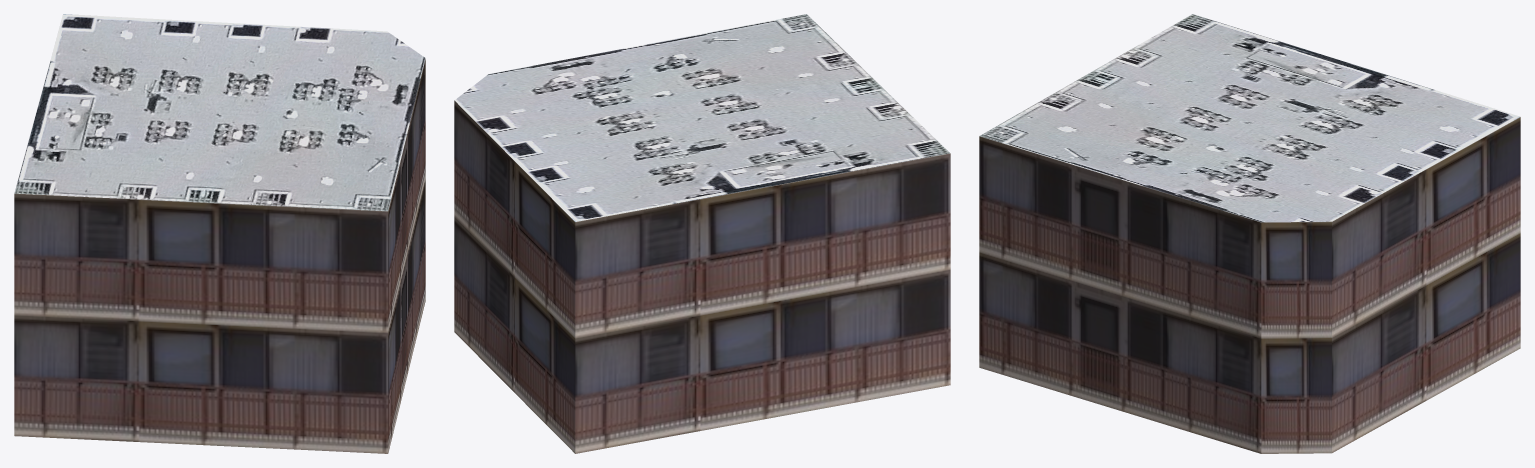
Rendered from ResTex__1373.fbx.
The picture shows the model from 3 angles, left to right: view 1: azimuth 30°, elevation 25°; view 2: azimuth 150°, elevation 25°; view 3: azimuth 270°, elevation 25°; orthographic projection. The views are drawn at different scales.
Visible parts, largest first — view 1: CityEngineMaterial_6_m, CityEngineMaterial_8_m; view 2: CityEngineMaterial_6_m, CityEngineMaterial_8_m; view 3: CityEngineMaterial_6_m, CityEngineMaterial_8_m.
Part boxes in pixels (bbox=[...]): CityEngineMaterial_6_m: bbox=[14, 59, 425, 453]; CityEngineMaterial_8_m: bbox=[14, 14, 425, 211]; CityEngineMaterial_6_m: bbox=[454, 100, 950, 453]; CityEngineMaterial_8_m: bbox=[454, 14, 949, 221]; CityEngineMaterial_6_m: bbox=[979, 117, 1520, 453]; CityEngineMaterial_8_m: bbox=[979, 14, 1520, 222].
Bounding box in the file's own units: 11.58 × 6 × 12.72.
Materials: 2 (2 with a texture image).
